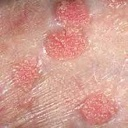Wart: (46, 1, 88, 57), (80, 92, 122, 121)
